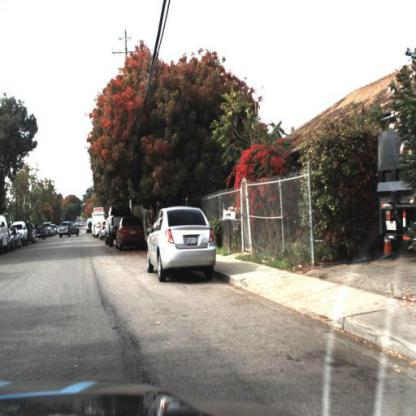car: (143, 203, 222, 290), (114, 213, 147, 255), (104, 202, 124, 249), (12, 217, 31, 250), (1, 211, 12, 261), (58, 219, 83, 241)
truck: (89, 202, 107, 240)
